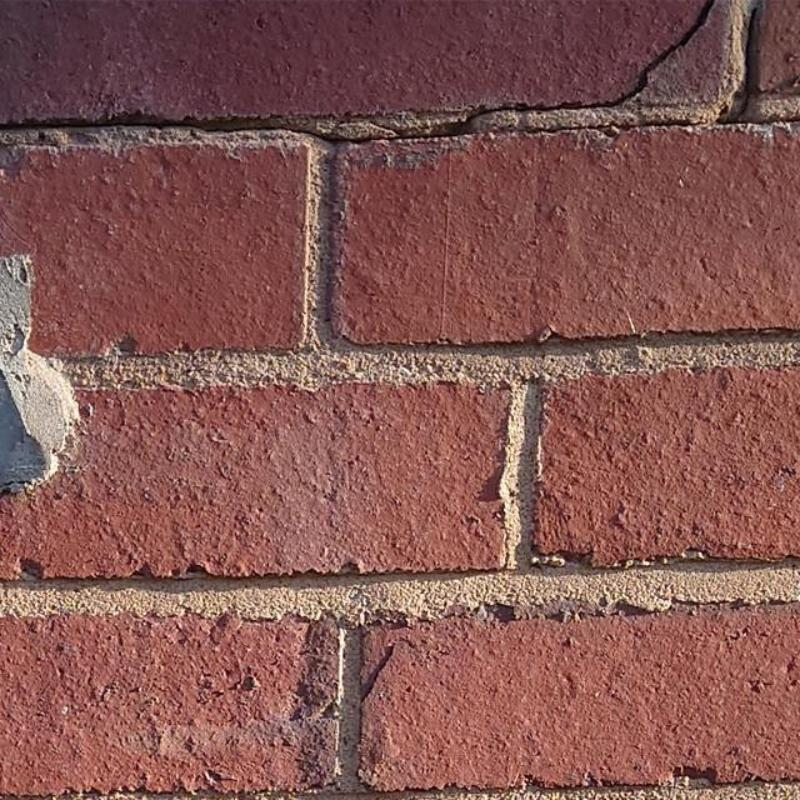pothole: (208, 0, 718, 144), (716, 8, 757, 124), (519, 120, 704, 135), (360, 642, 395, 702), (59, 123, 211, 134), (736, 118, 799, 125), (0, 124, 62, 129)
